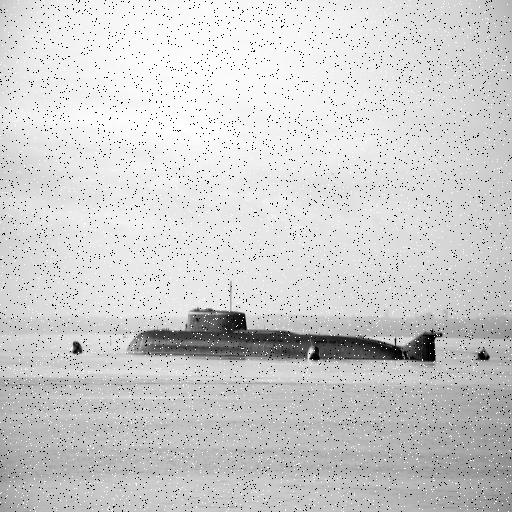submarine: (125, 309, 470, 362)
